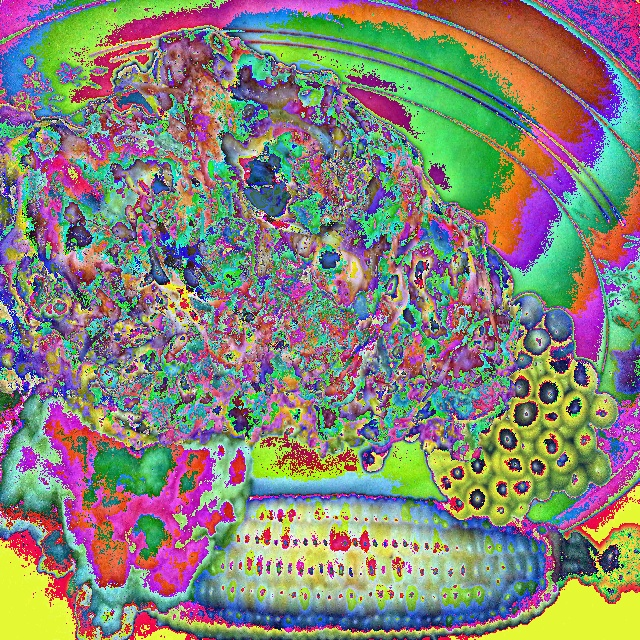background: (0, 29, 619, 639)
